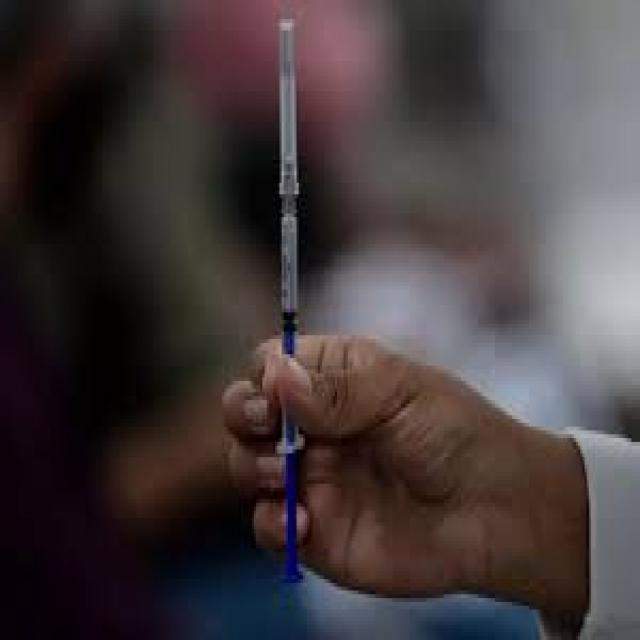syringe: (202, 16, 348, 597)
